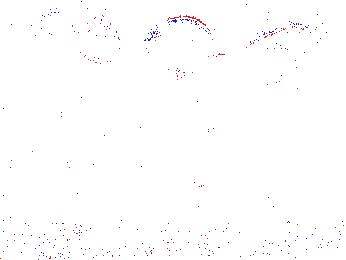moon jellyfish: (223, 24, 312, 88), (28, 11, 102, 65), (57, 1, 120, 64), (147, 16, 215, 71), (265, 7, 332, 59), (187, 53, 258, 97)
